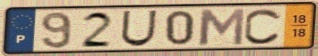0: (163, 9, 198, 46)
2: (77, 10, 116, 48)
9: (39, 10, 73, 50)
C: (242, 7, 284, 46)
M: (198, 7, 247, 46)
U: (119, 9, 160, 48)
